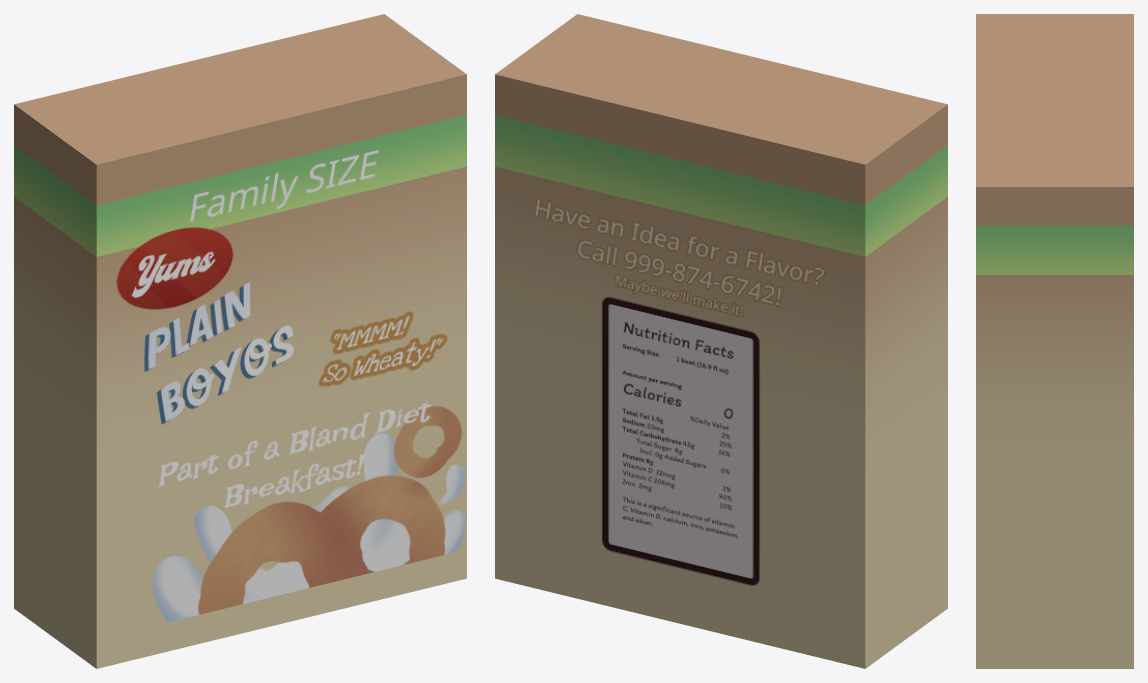
File: Cereal_PlainBoyos.fbx
The picture shows the model from 3 angles, left to right: view 1: azimuth 30°, elevation 25°; view 2: azimuth 150°, elevation 25°; view 3: azimuth 270°, elevation 25°; orthographic projection. The views are drawn at different scales.
Parts seen in each view (by area): view 1: Cereal_PlainBoyos; view 2: Cereal_PlainBoyos; view 3: Cereal_PlainBoyos.
Boxes of the visible parts, box(x1,y1,x2,y2) form: Cereal_PlainBoyos: box(14, 14, 466, 668); Cereal_PlainBoyos: box(495, 14, 947, 668); Cereal_PlainBoyos: box(976, 14, 1133, 668).
Size of the model in its own units: 61.88 by 80.48 by 23.88.
1 material, 1 textured.
